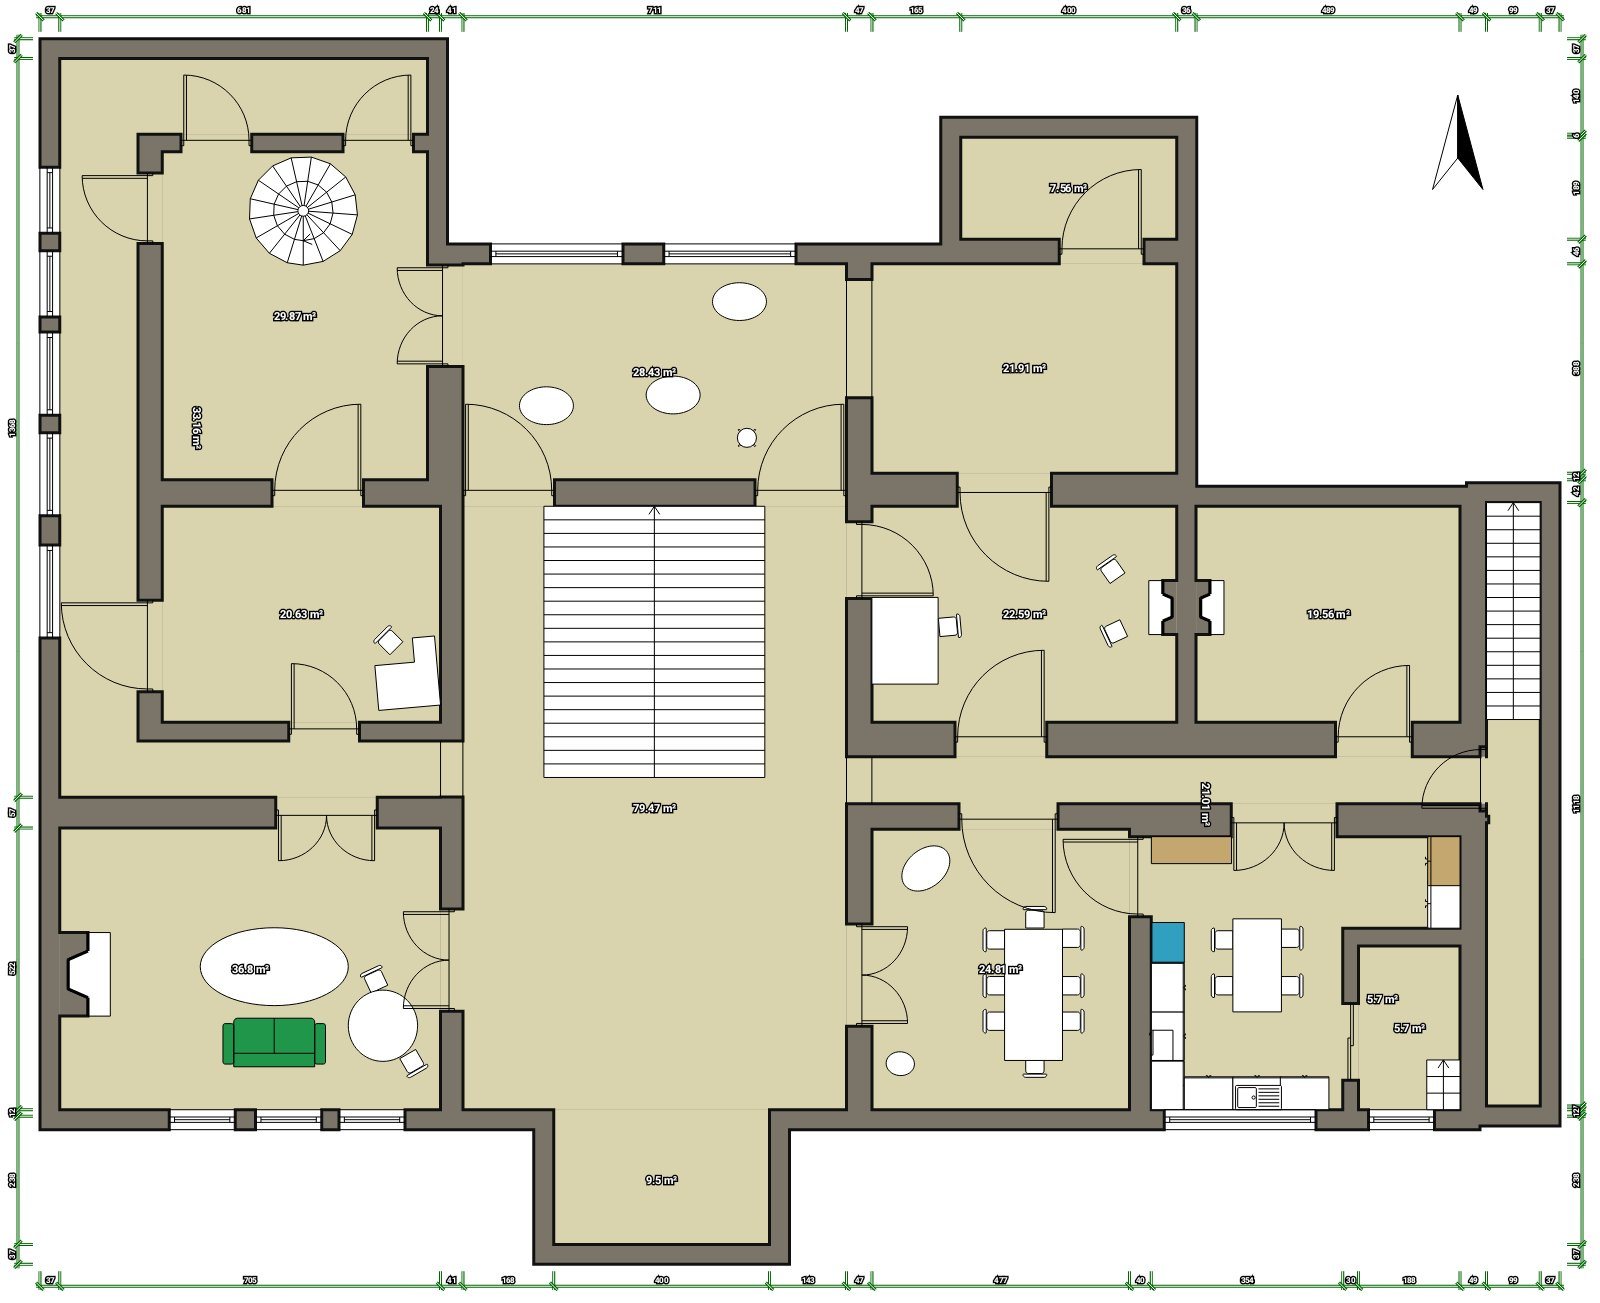door: (757, 394, 850, 491), (961, 835, 1066, 920), (54, 590, 138, 695), (272, 391, 368, 479), (954, 639, 1049, 728), (461, 398, 554, 487), (961, 503, 1054, 591), (377, 266, 450, 371), (1052, 162, 1146, 236), (1229, 822, 1336, 885), (177, 66, 260, 142), (1058, 831, 1126, 916), (874, 519, 942, 604), (69, 166, 136, 251), (403, 907, 454, 1013), (278, 817, 376, 873), (280, 653, 359, 719), (866, 920, 916, 1024), (1342, 653, 1414, 723), (347, 64, 419, 129)
